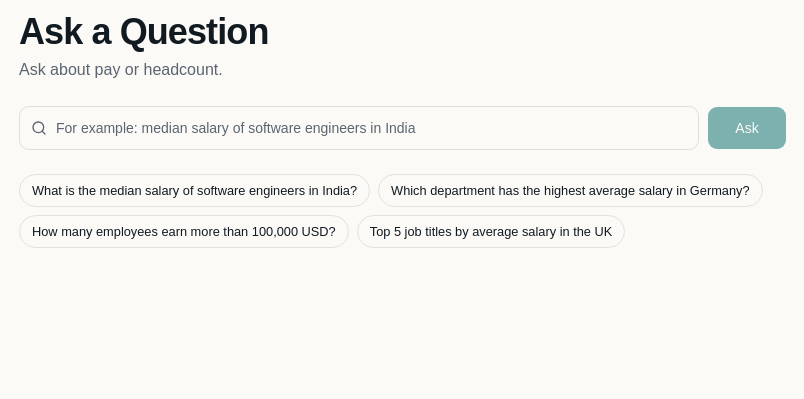
it: asking › shows the answer, the table and how the question was understood
Type "median salary of software engineers in India" into the field named "Your question". click: (359, 128)
box: [19,106,699,150]
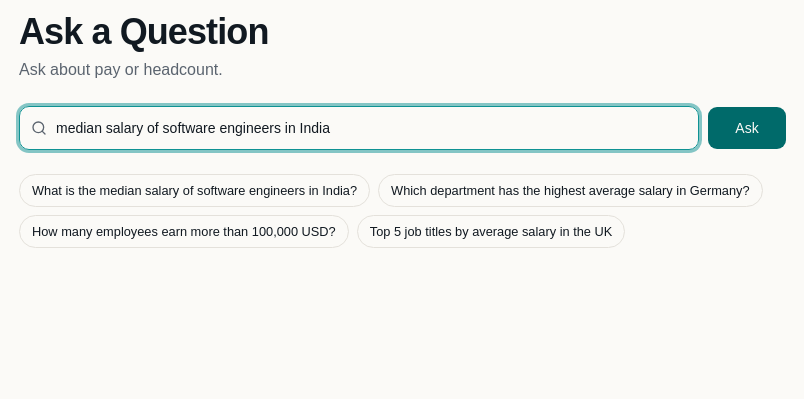
Click the button "Ask". click: (747, 128)
box: [707,106,787,150]
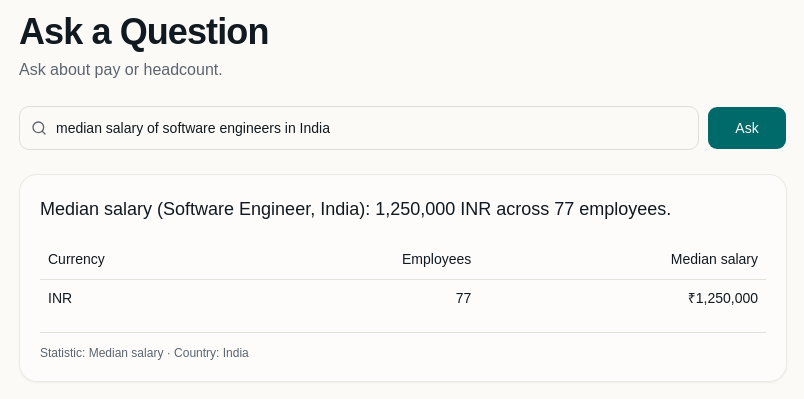
Expected: the text "Median salary (Software Engineer, India): 1,250,000 INR across 77 employees." is shown, [40,195,766,223]
Expected: the text "₹1,250,000" is shown, [479,279,766,316]
Expected: the text "77" is shown, [242,279,479,316]
